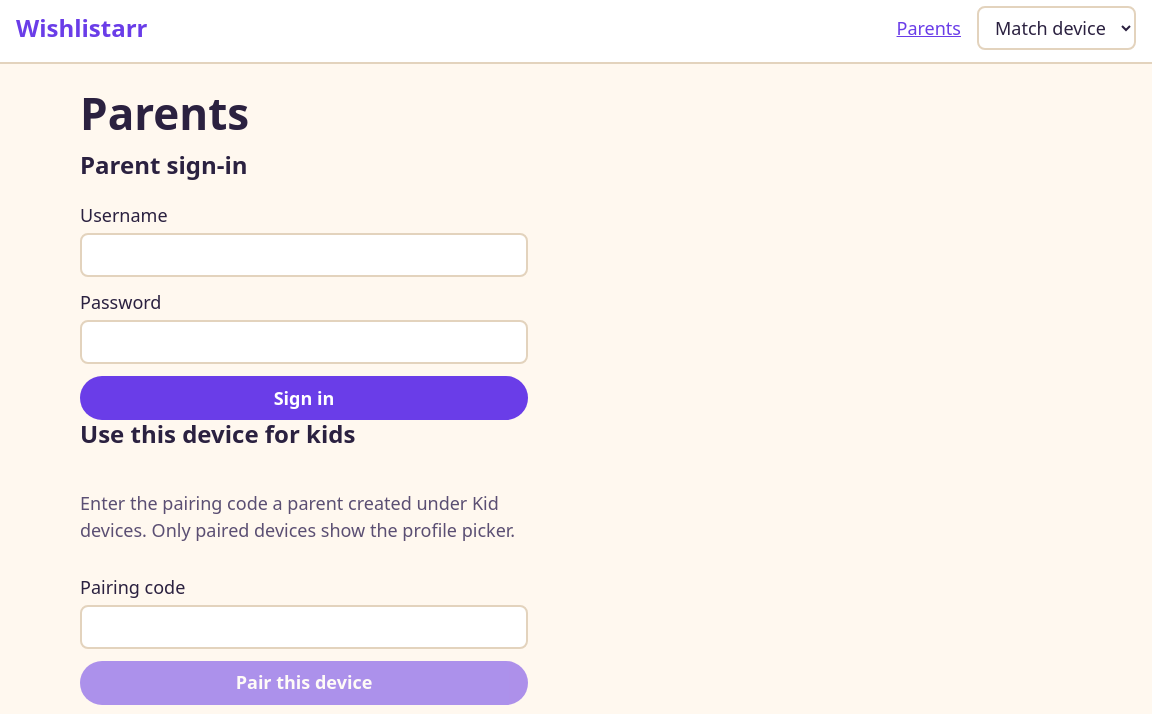
explains a pairing code that did not work
Step 1. Type "zzzz-zzzz" into the field labelled "Pairing code" → (304, 627), box x1=80 y1=605 x2=528 y2=649
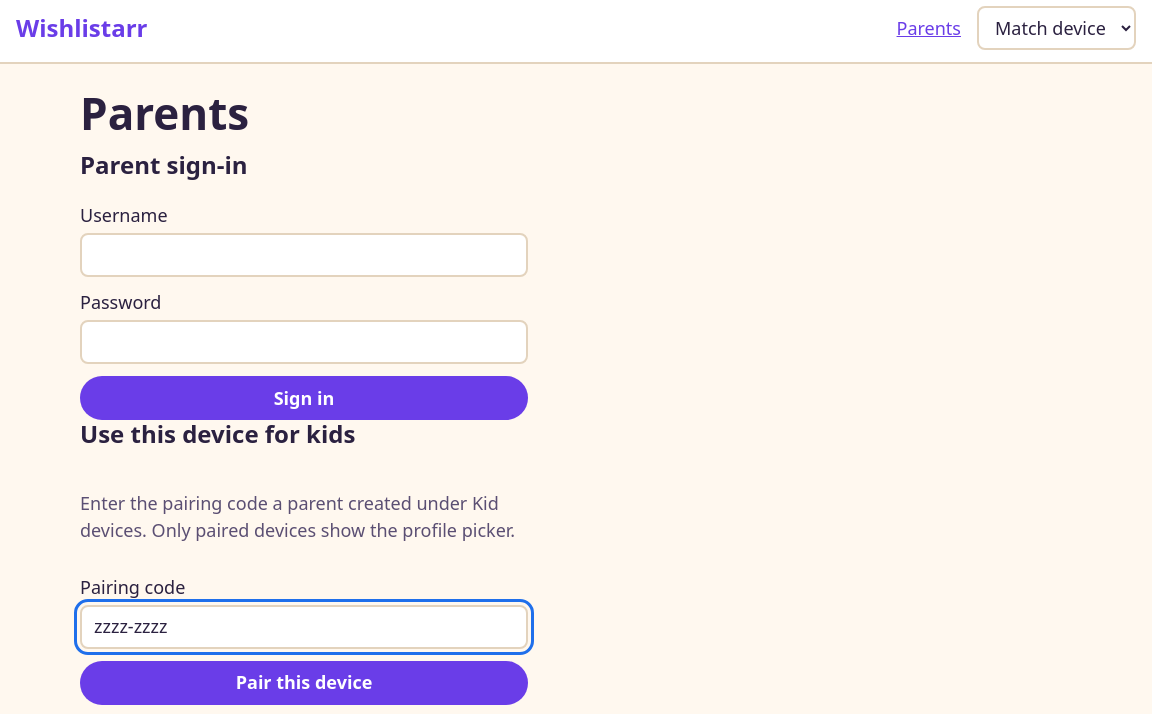
Step 2. Click the button "Pair this device" → (304, 683), box x1=80 y1=661 x2=528 y2=705
(page scrolled)
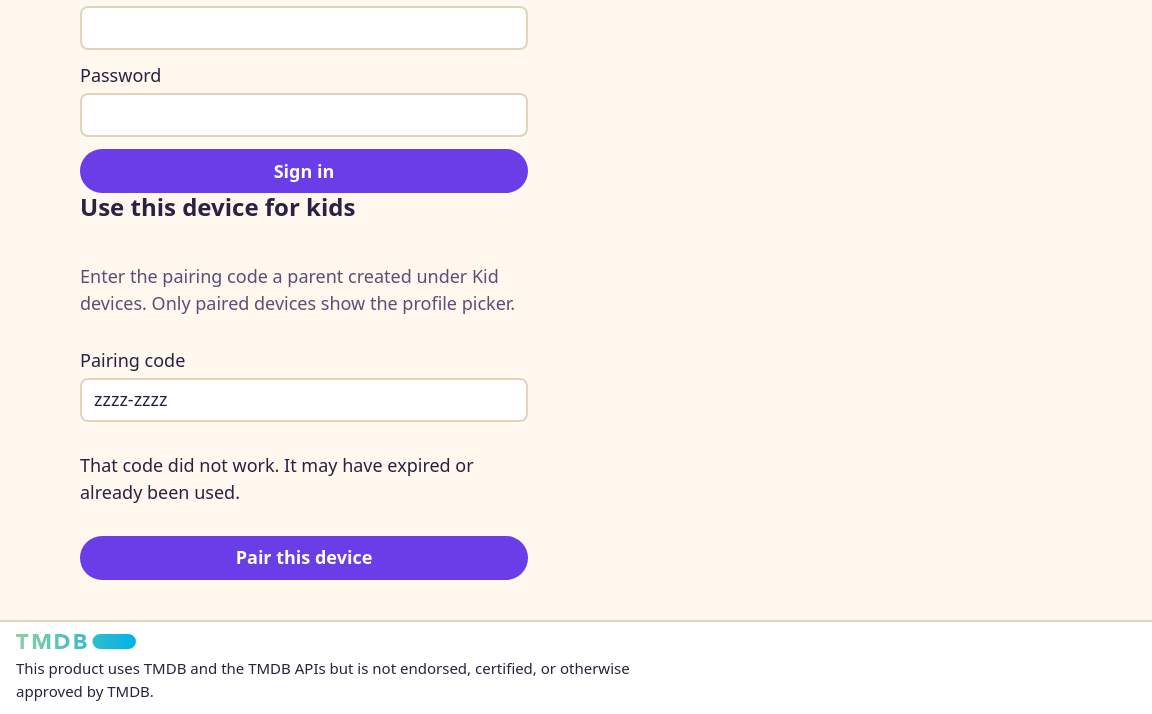
Expected: the message reads "That code did not work. It may have expired or already been used.", x1=80 y1=453 x2=474 y2=504
